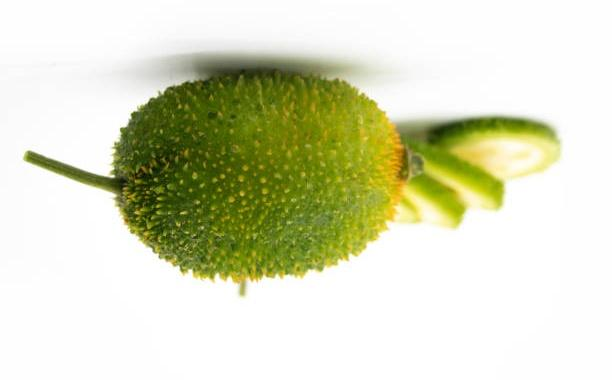spiny groud: (109, 65, 409, 285)
